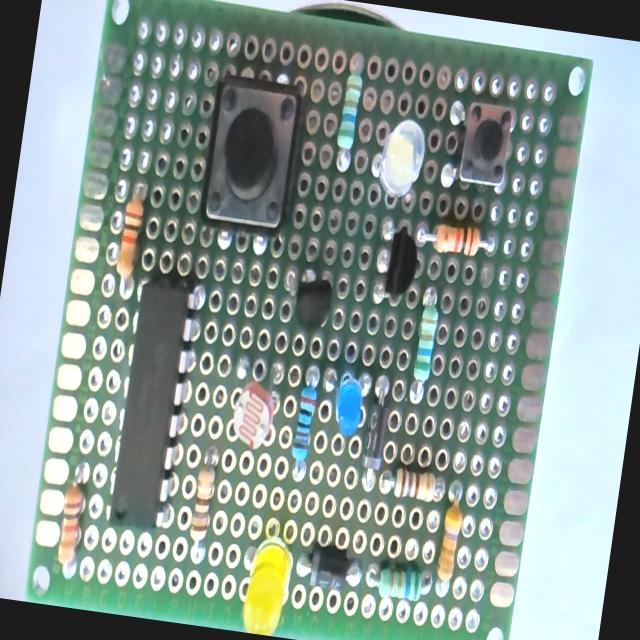IC: (106, 266, 207, 542)
cds: (218, 342, 290, 451)
diode: (357, 359, 402, 504), (293, 526, 372, 606)
led: (226, 524, 302, 638), (368, 100, 438, 204), (318, 346, 378, 444)
resistor: (324, 48, 376, 190), (50, 450, 104, 572), (180, 434, 229, 568), (104, 182, 152, 312), (404, 279, 448, 417), (432, 470, 476, 591), (416, 212, 506, 268), (360, 550, 436, 613), (288, 364, 324, 486), (377, 456, 452, 509)
switch: (192, 73, 315, 245), (450, 83, 530, 202)
transistor: (278, 254, 345, 338), (380, 222, 418, 321)
